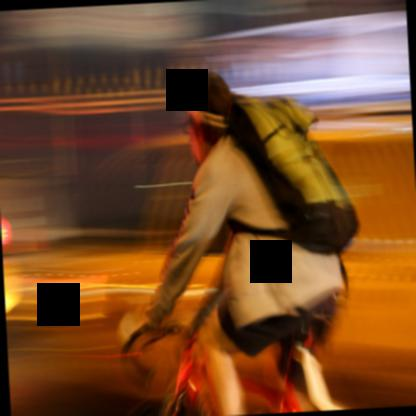backpack: (225, 96, 364, 246)
